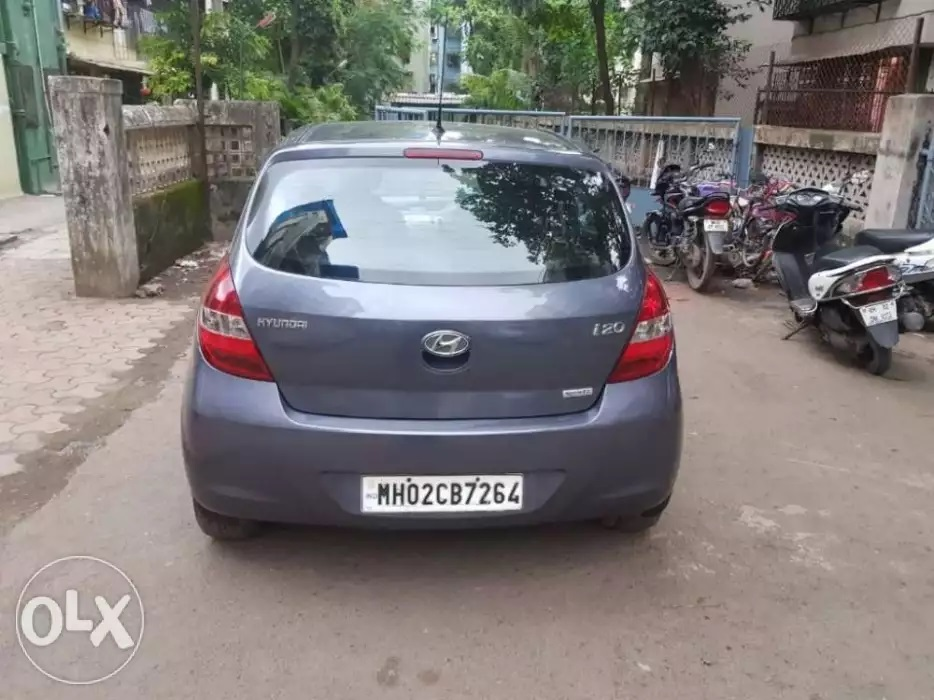licenseplate: (358, 469, 530, 516)
